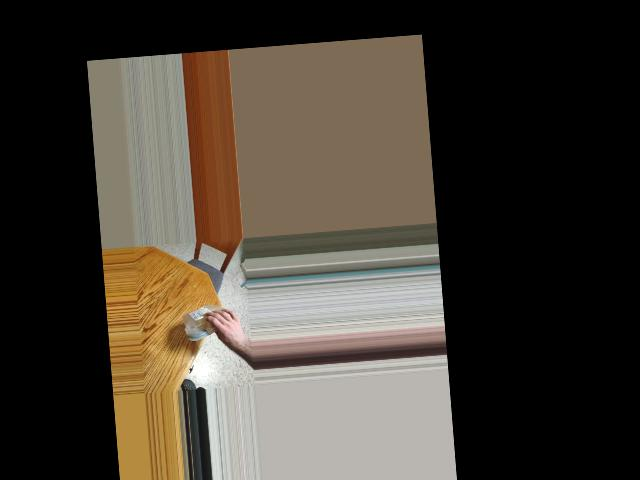cheese: (184, 302, 225, 339)
